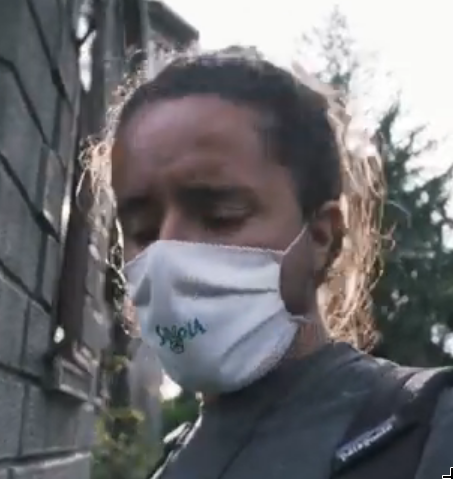with_mask: (113, 53, 352, 378)
